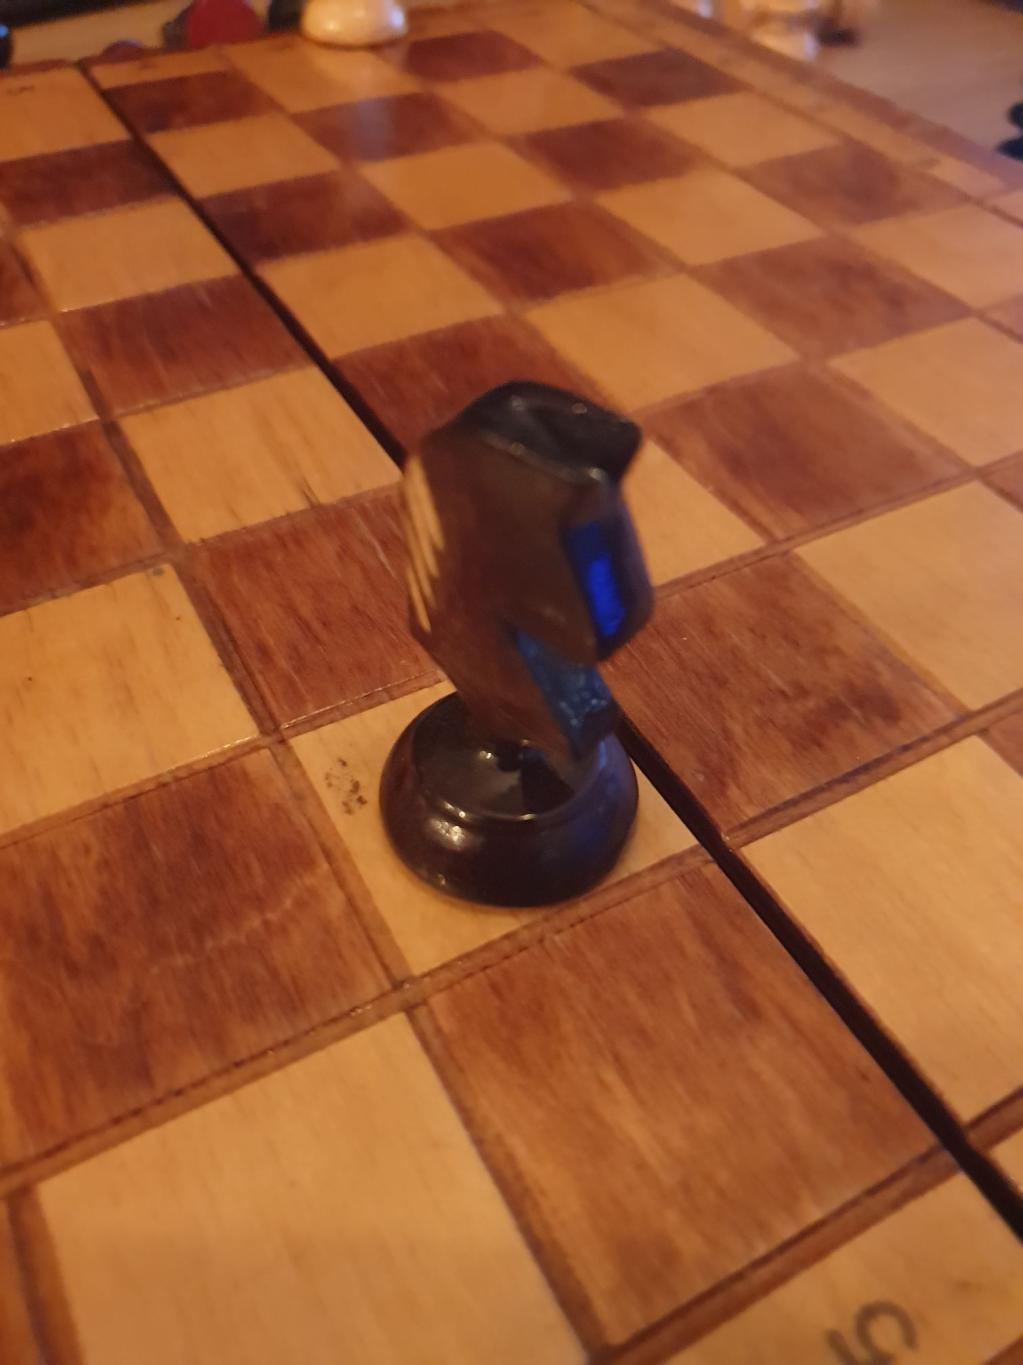bknight: (380, 384, 652, 908)
